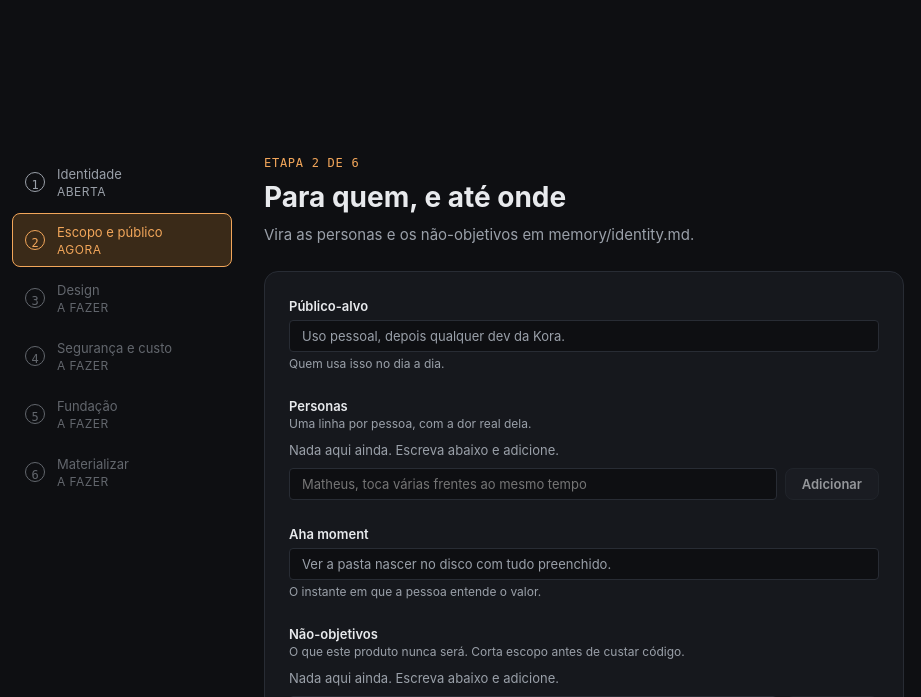
trilha e volta › voltar preserva o que foi digitado e salva antes de sair da etapa
(page scrolled)
In the field labelled "Público-alvo": [584, 336] box [289, 320, 879, 352], type "devs da Kora"
(page scrolled)
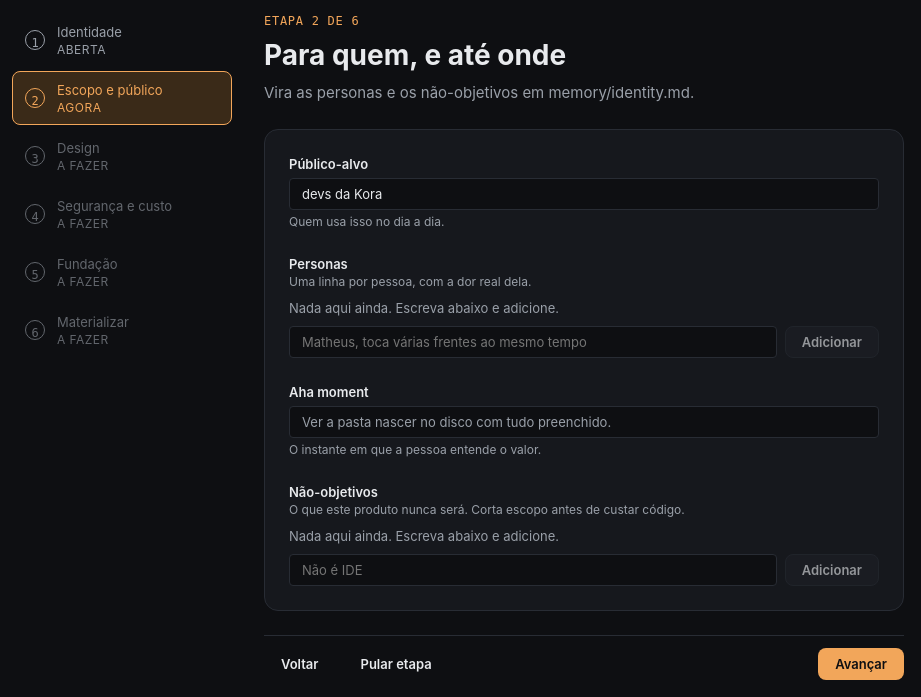
Click the button "Voltar": [300, 664] box [264, 648, 336, 680]
(page scrolled)
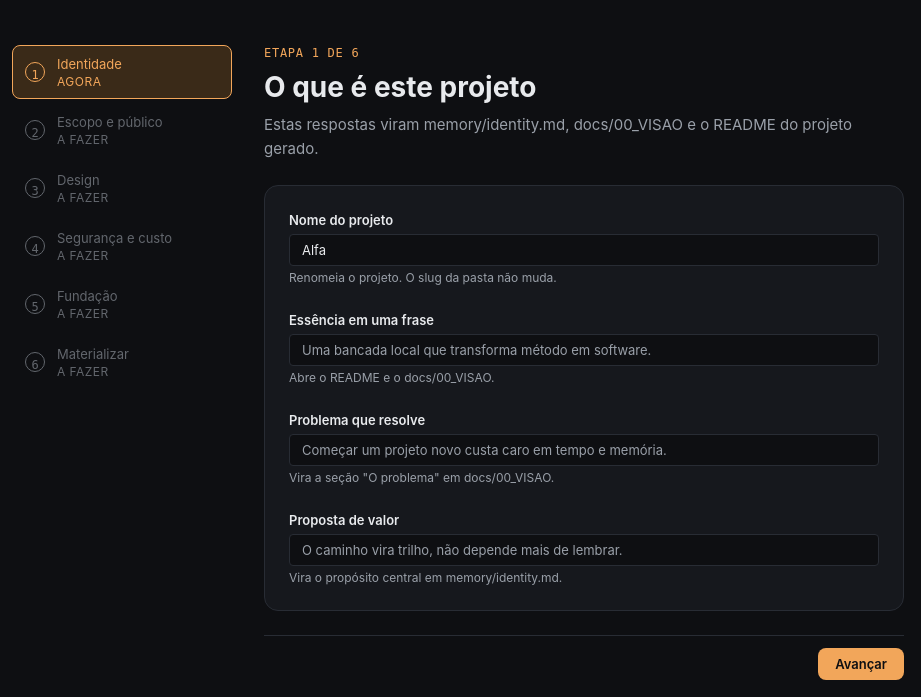
Expected: the heading "O que é este projeto" is shown, [264, 70, 536, 104]
